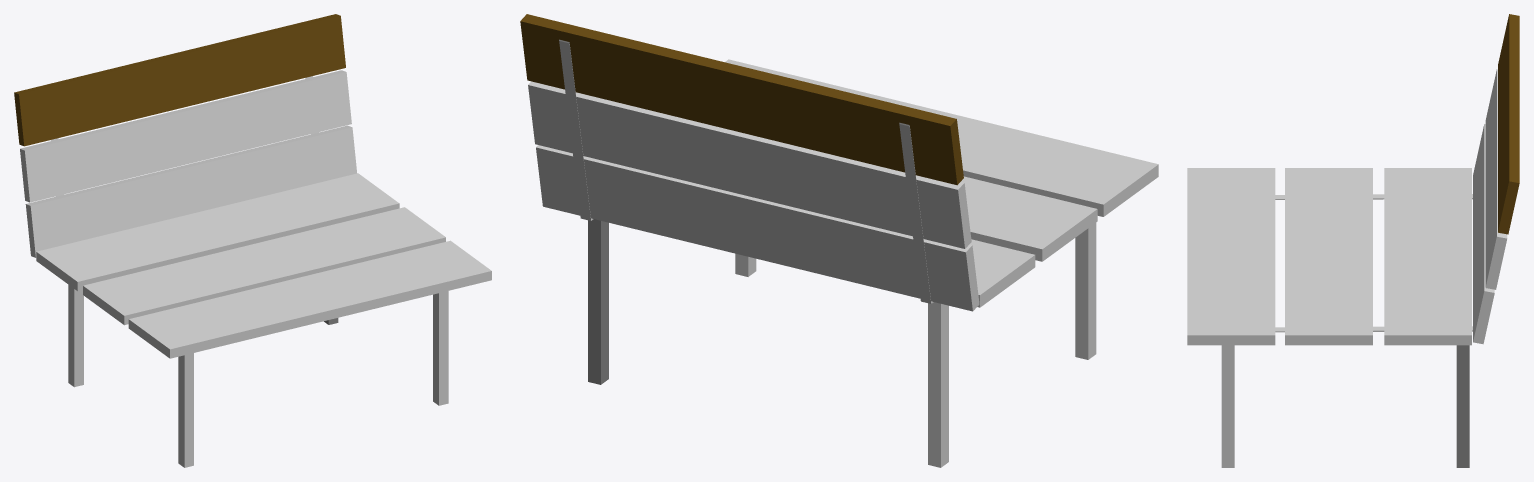
Rendered from Bench.fbx.
3 renders of one model, left to right at view 1: azimuth 30°, elevation 25°; view 2: azimuth 150°, elevation 25°; view 3: azimuth 270°, elevation 25°, orthographic. The views are drawn at different scales.
Parts seen in each view (by area): view 1: Bench_5, Bench_4, Bench_3, Bench, Bench_2, Bench_1, Bench_11, Bench_9, Bench_8; view 2: Bench_5, Bench_4, Bench_3, Bench, Bench_1, Bench_8, Bench_10, Bench_9, Bench_2, Bench_6, Bench_7; view 3: Bench, Bench_1, Bench_2, Bench_5, Bench_4, Bench_3, Bench_10, Bench_11.
Boxes of the visible parts, x1,y1,x2,y2 form: Bench_5: (14,14,345,146); Bench_4: (20,70,351,202); Bench_3: (25,125,356,257); Bench: (128,240,491,358); Bench_2: (36,173,399,291); Bench_1: (83,207,445,325); Bench_11: (433,291,448,405); Bench_9: (178,353,193,467); Bench_8: (68,285,83,387); Bench_5: (520,14,963,185); Bench_4: (528,81,971,248); Bench_3: (536,145,979,311); Bench: (725,59,1158,216); Bench_1: (961,176,1097,261); Bench_8: (928,302,948,467); Bench_10: (588,219,608,384); Bench_9: (1075,223,1096,359); Bench_2: (969,239,1035,307); Bench_6: (899,122,933,303); Bench_7: (559,39,593,220); Bench: (1187,168,1275,345); Bench_1: (1285,168,1372,345); Bench_2: (1384,168,1471,345); Bench_5: (1498,14,1519,234); Bench_4: (1485,69,1507,289); Bench_3: (1473,124,1494,344); Bench_10: (1456,345,1469,467); Bench_11: (1221,345,1234,467).
Size of the model in its own units: 1.8 by 1.51 by 1.51.
